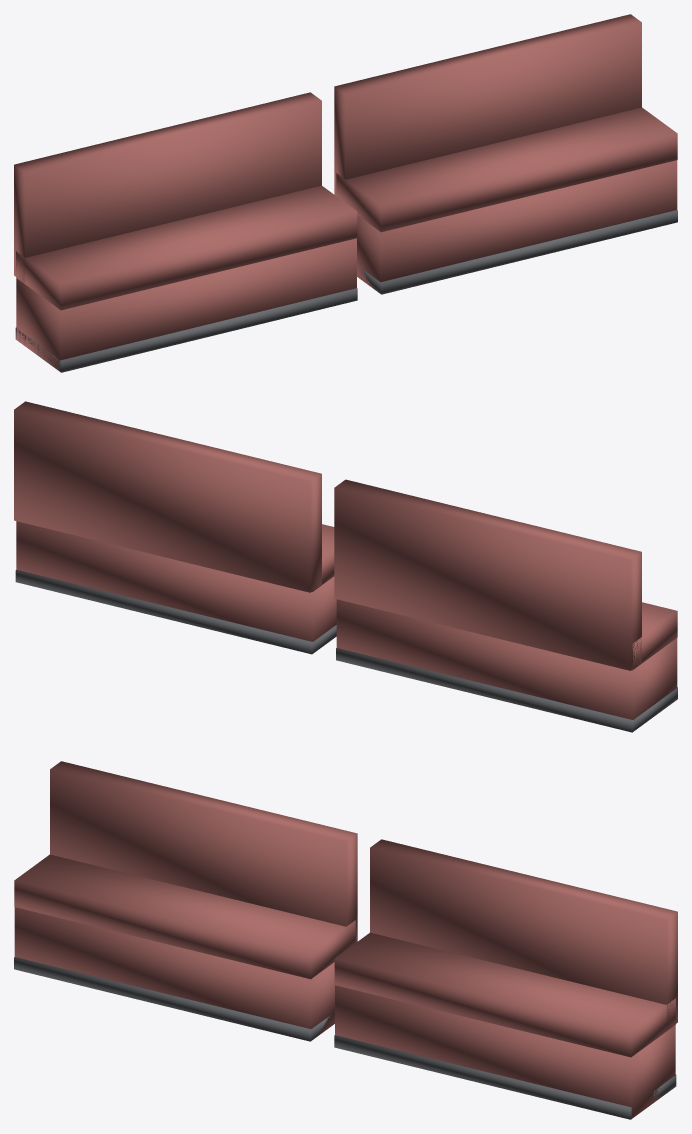
File: diner_booth_double__cluster.glb
3 renders of one model, top to bottom at view 1: azimuth 30°, elevation 25°; view 2: azimuth 150°, elevation 25°; view 3: azimuth 330°, elevation 25°, orthographic.
Visible parts, largest first — view 1: world; view 2: world; view 3: world.
Part boxes in pixels (bbox=[...]): world: bbox=[14, 14, 677, 372]; world: bbox=[14, 401, 677, 732]; world: bbox=[14, 761, 677, 1119].
Size of the model in its own units: 4.37 by 1.17 by 0.58.
